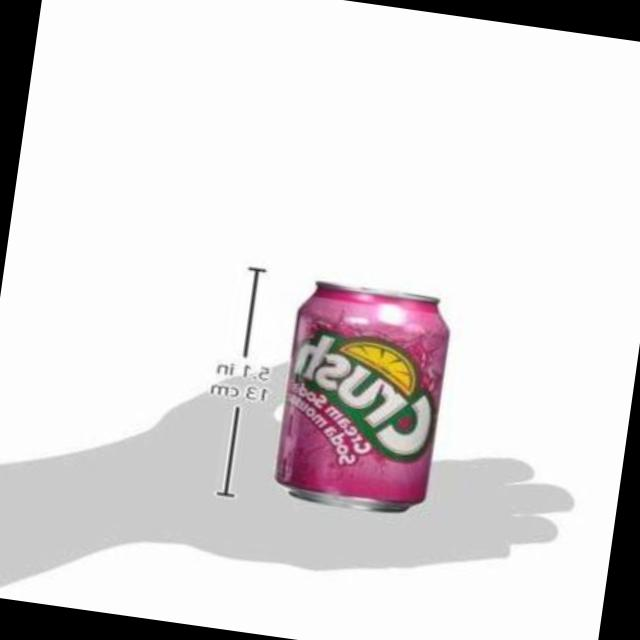metal: (279, 283, 451, 509)
